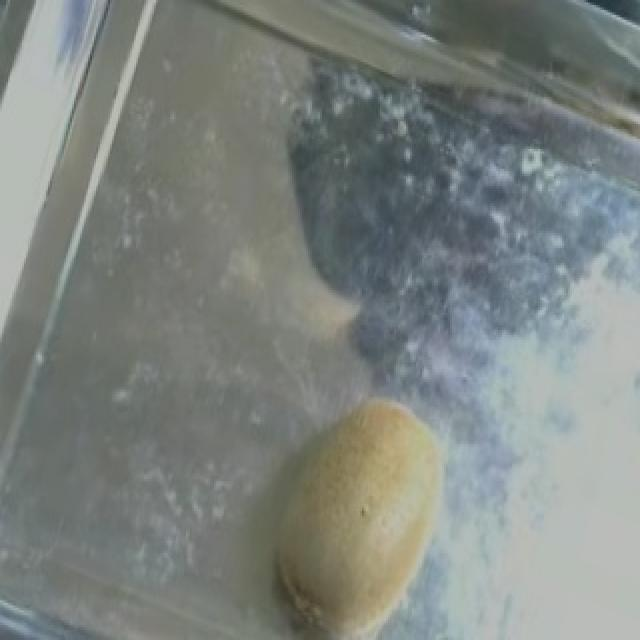Fruit: (214, 364, 480, 640)
